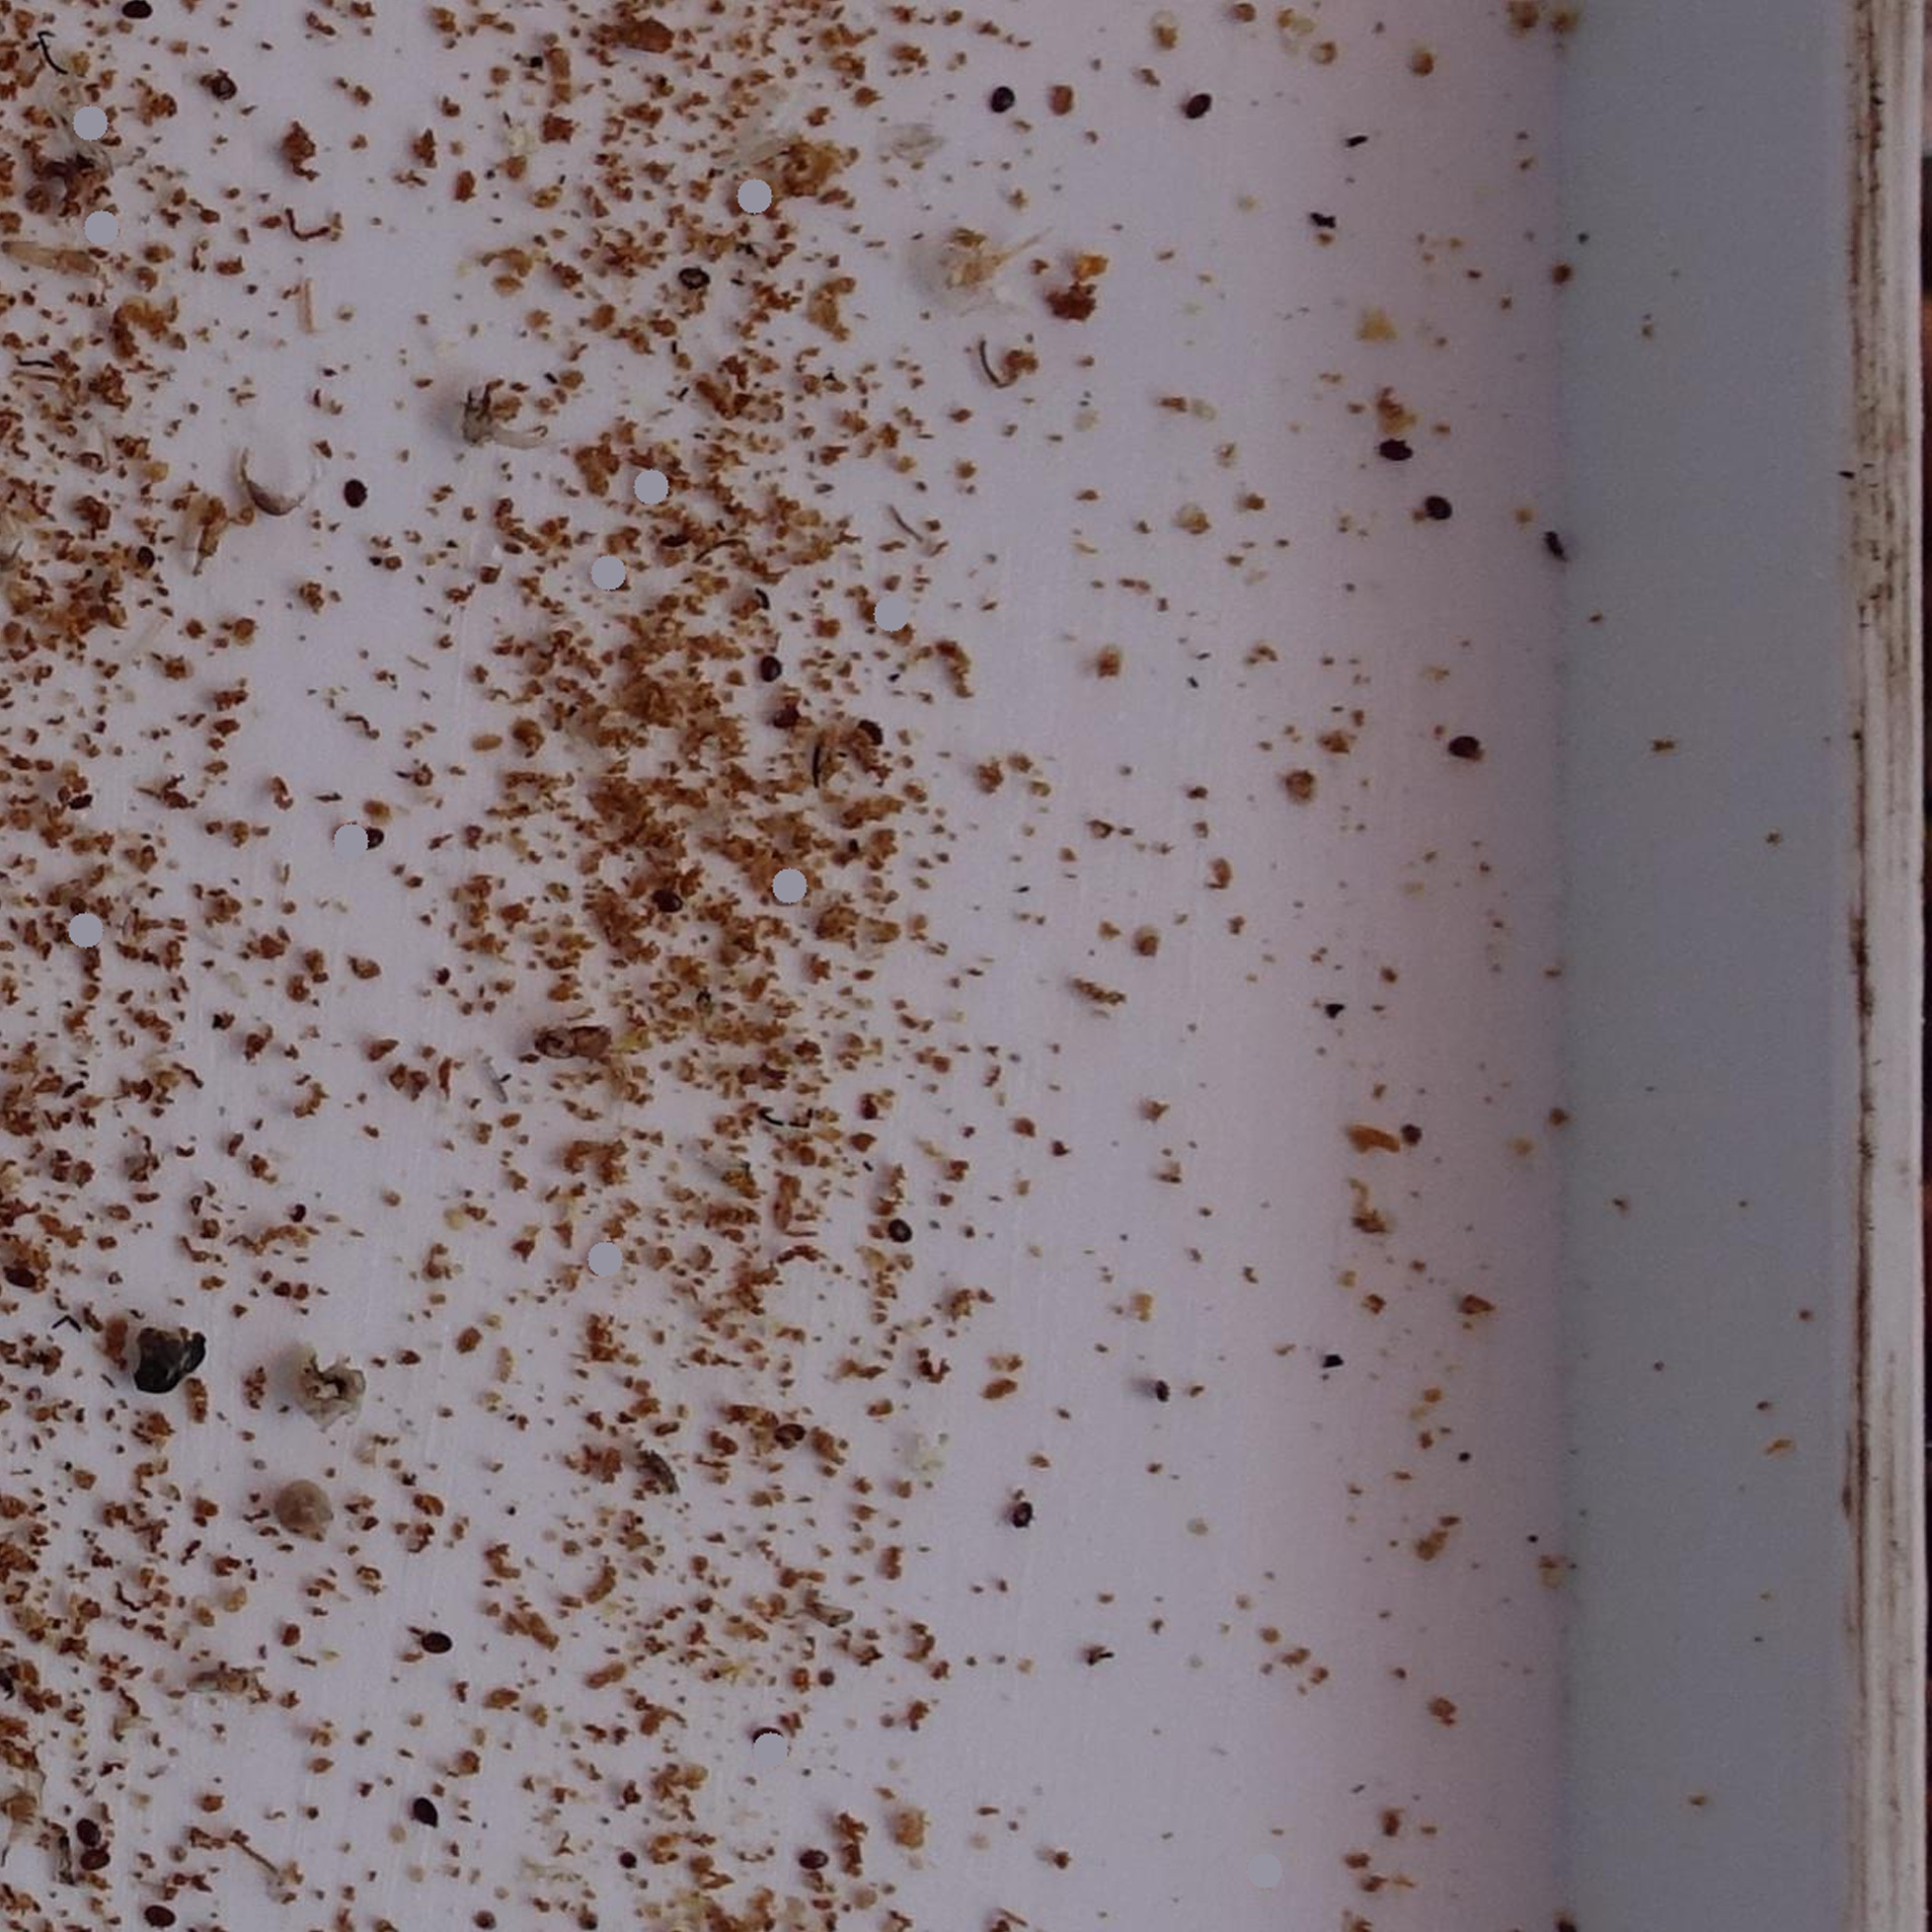Varroa: (755, 655, 786, 685), (768, 702, 798, 732), (211, 71, 241, 99), (878, 1217, 906, 1246), (58, 778, 87, 807), (985, 87, 1016, 113), (419, 1631, 448, 1658), (1449, 734, 1477, 761), (1382, 439, 1410, 465), (681, 262, 709, 288), (1184, 88, 1210, 115), (759, 1716, 784, 1744), (131, 547, 156, 575), (80, 1831, 104, 1859), (87, 1812, 110, 1836), (359, 824, 380, 847), (143, 1904, 166, 1923), (349, 478, 368, 497), (1430, 494, 1449, 513), (14, 1269, 32, 1290), (658, 888, 678, 906), (421, 1805, 437, 1826), (778, 1426, 794, 1447), (810, 1852, 824, 1874), (80, 1858, 97, 1868)
